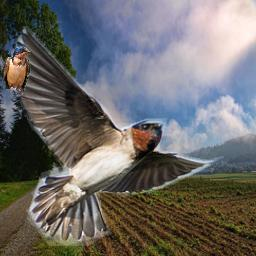Swallow: (9, 26, 224, 246), (3, 46, 31, 95)
